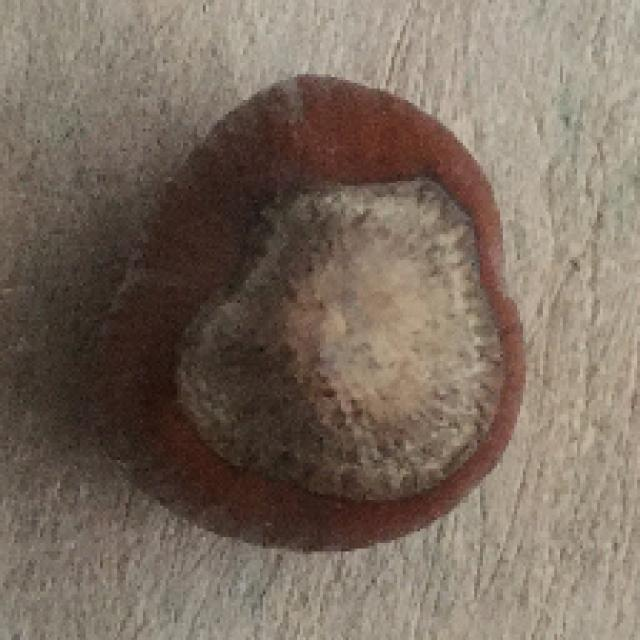qualityHazelnut: (88, 64, 539, 554)
